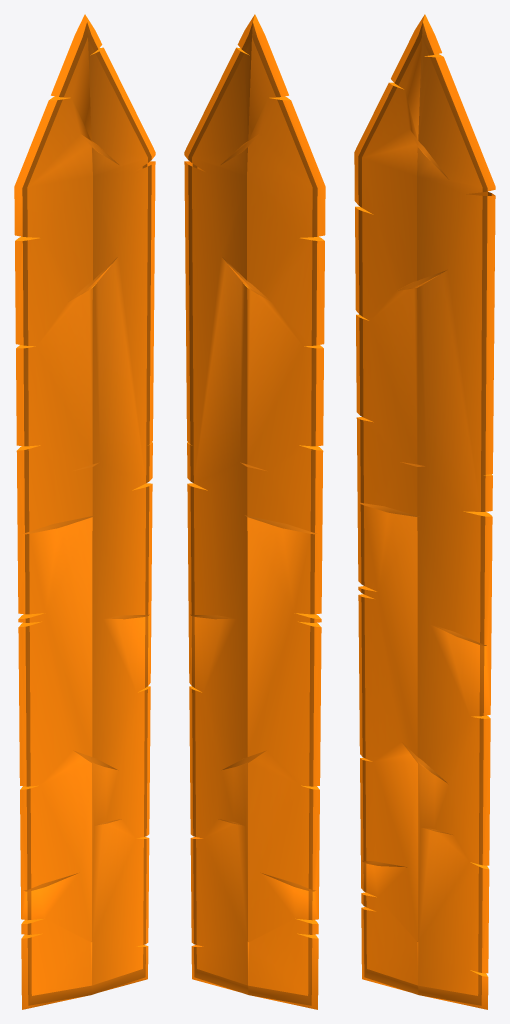
Rendered from bronze_blade_scratched_028.glb.
The picture shows the model from 3 angles, left to right: view 1: azimuth 30°, elevation 25°; view 2: azimuth 150°, elevation 25°; view 3: azimuth 330°, elevation 25°; orthographic projection.
Parts seen in each view (by area): view 1: bronze_blade_scratched.028; view 2: bronze_blade_scratched.028; view 3: bronze_blade_scratched.028.
Part boxes in pixels (x1,y1,x2,y2): bronze_blade_scratched.028: (14, 14, 155, 1009); bronze_blade_scratched.028: (184, 14, 325, 1009); bronze_blade_scratched.028: (354, 14, 495, 1009).
Size of the model in its own units: 1.71 by 11.4 by 0.3369.
1 material, 1 textured.
